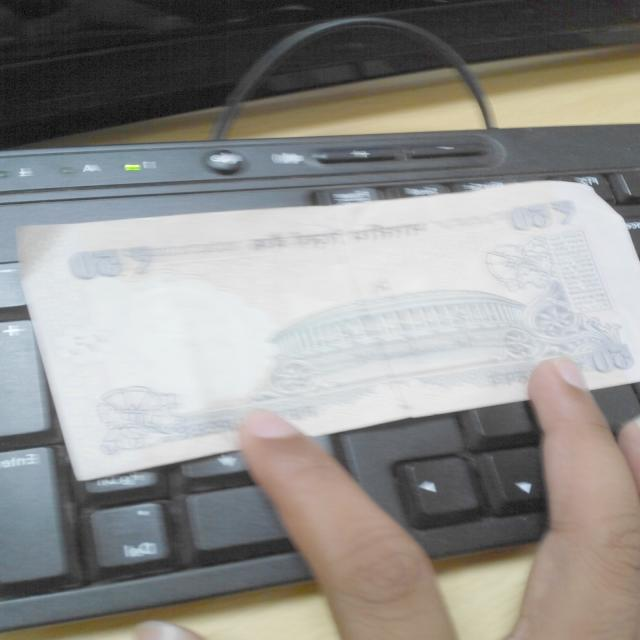50rs: (0, 161, 640, 489)
